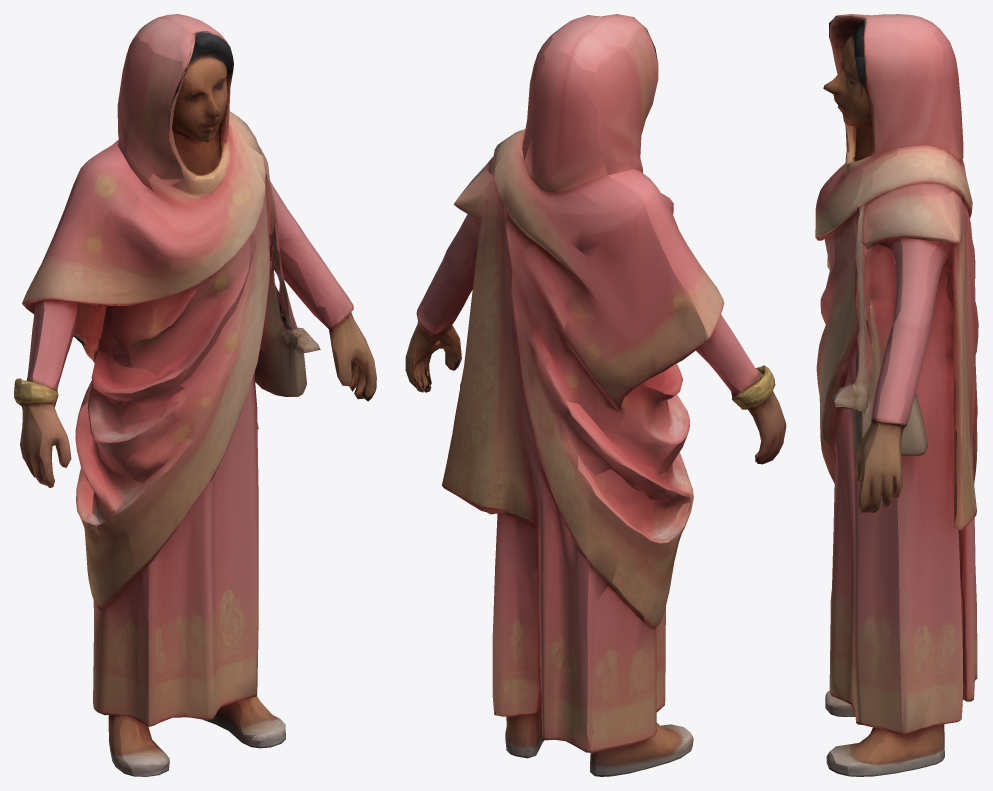
The model's file is mama2object_0.glb.
3 views of the same model, side by side, from view 1: azimuth 30°, elevation 25°; view 2: azimuth 150°, elevation 25°; view 3: azimuth 270°, elevation 25° (orthographic).
Visible parts, largest first — view 1: world; view 2: world; view 3: world.
Boxes of the visible parts, x1,y1,x2,y2 form: world: (14, 14, 376, 776); world: (405, 14, 786, 776); world: (815, 14, 978, 776).
Bounding box in the file's own units: 0.5195 × 1 × 0.2058.
1 material, 1 textured.
